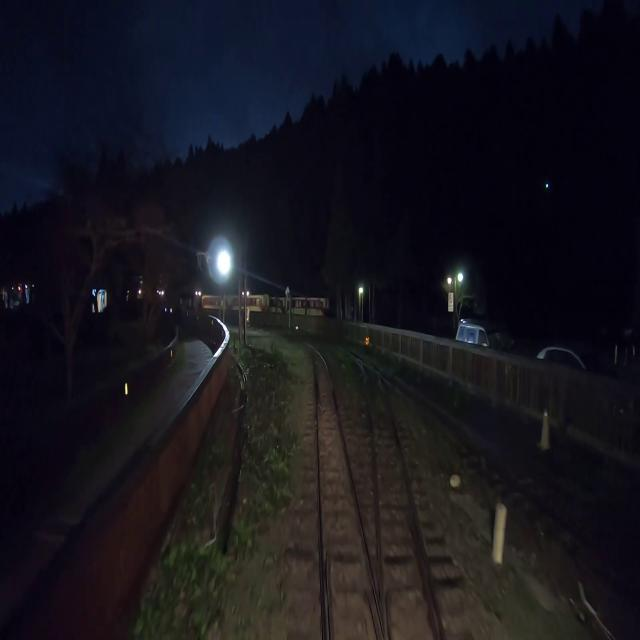rail-track: (398, 387, 619, 560), (364, 369, 439, 639), (309, 347, 374, 639)
